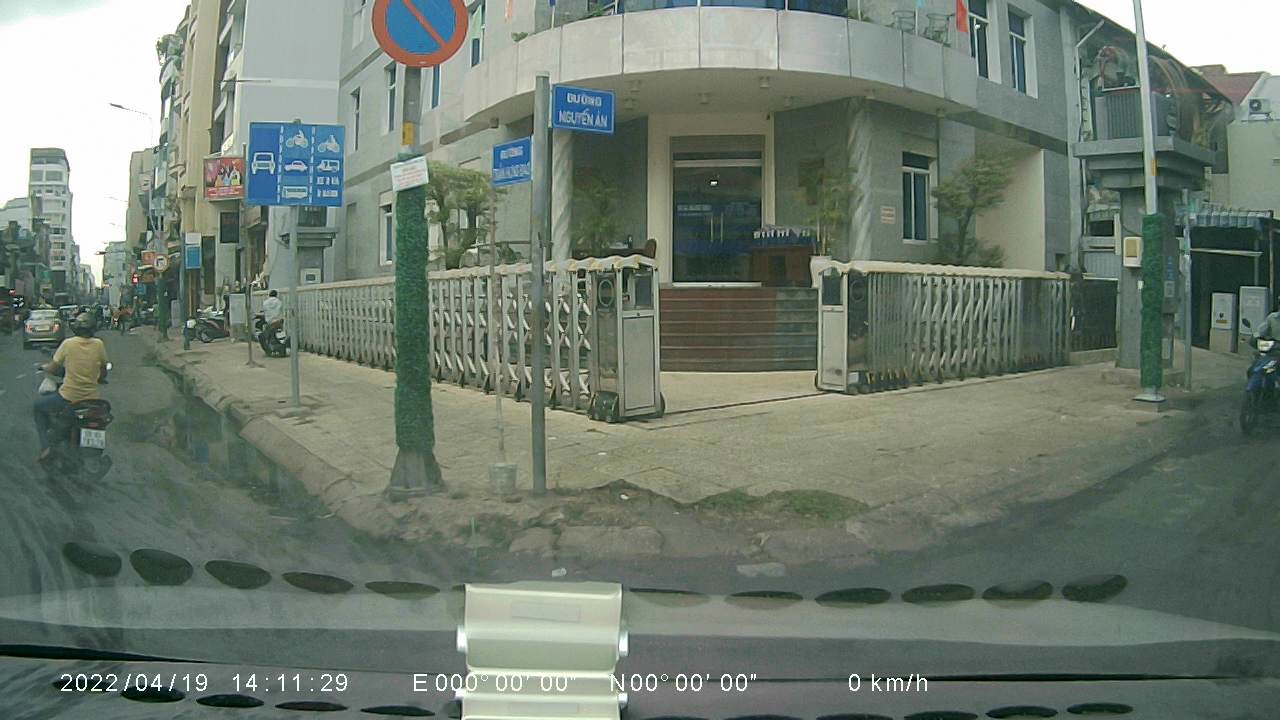Cam do xe: (370, 1, 474, 68)
